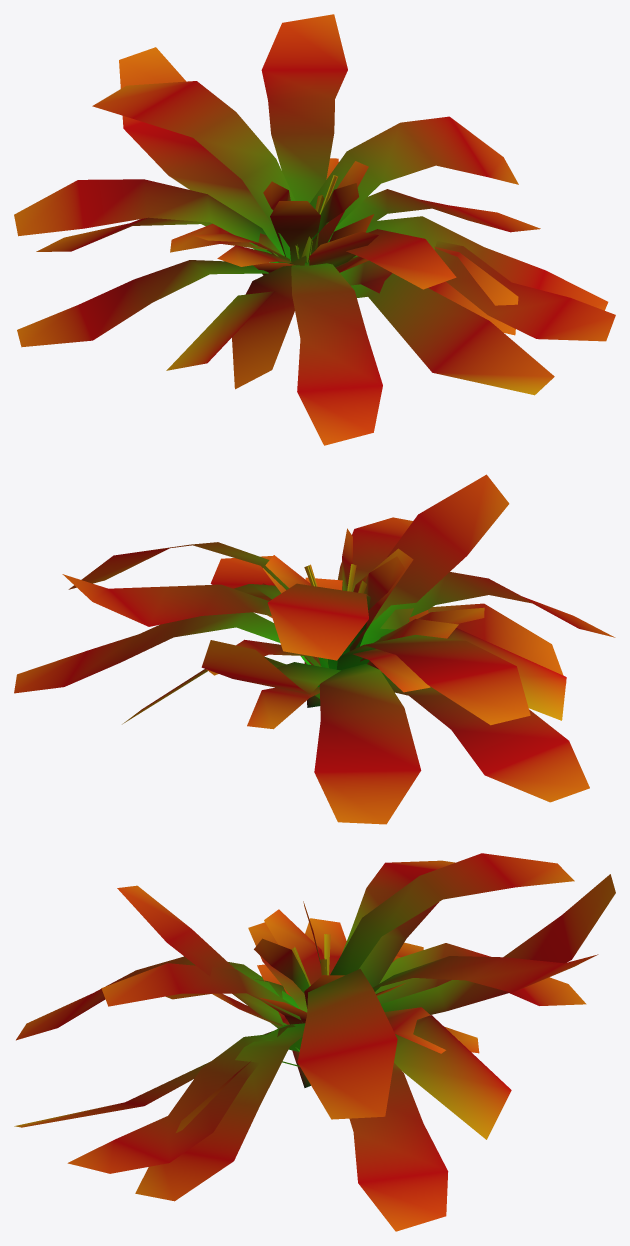
File: Cape Weed_LOD1_Var3_tjmhfcyia.fbx
The picture shows the model from 3 angles, top to bottom: view 1: azimuth 30°, elevation 25°; view 2: azimuth 150°, elevation 25°; view 3: azimuth 270°, elevation 25°; orthographic projection. The views are drawn at different scales.
Parts seen in each view (by area): view 1: _bcf9_Var3_LOD1; view 2: _bcf9_Var3_LOD1; view 3: _bcf9_Var3_LOD1.
Part boxes in pixels (x1=…): _bcf9_Var3_LOD1: x1=14, y1=14, x2=615, y2=445; _bcf9_Var3_LOD1: x1=14, y1=474, x2=615, y2=824; _bcf9_Var3_LOD1: x1=14, y1=853, x2=615, y2=1231.
Bounding box in the file's own units: 37.9 × 12.67 × 34.73.
